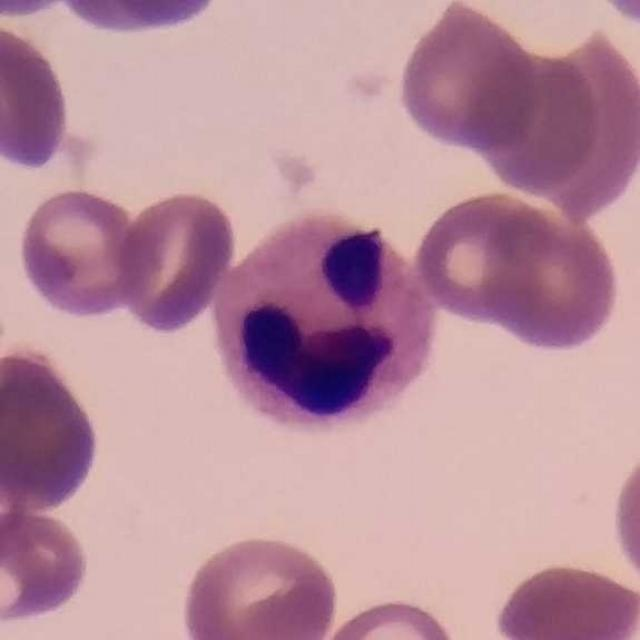Neutrophil: (204, 200, 445, 443)
RBC: (406, 186, 628, 354), (490, 37, 636, 211), (393, 0, 545, 157), (13, 182, 156, 322), (112, 186, 240, 336), (177, 528, 343, 640), (0, 344, 107, 515), (489, 556, 640, 640), (0, 501, 93, 633), (0, 17, 76, 176), (38, 0, 239, 40), (312, 593, 466, 640), (607, 433, 640, 602), (0, 0, 84, 23)
